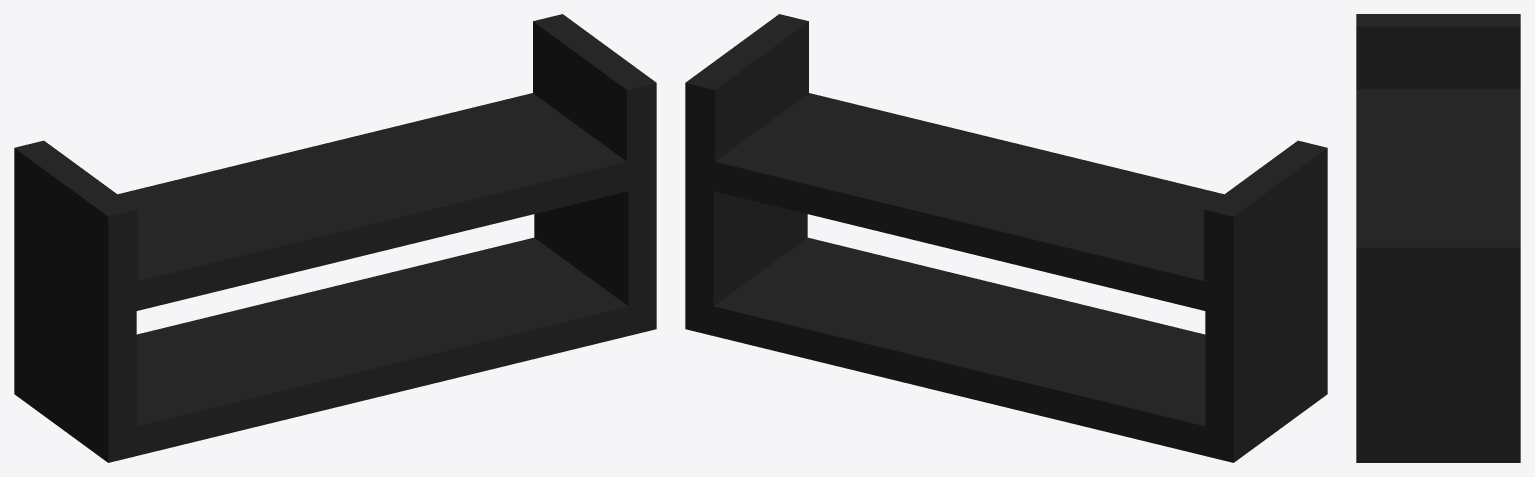
File: Prop_WallShelf_10.fbx
3 views of the same model, side by side, from view 1: azimuth 30°, elevation 25°; view 2: azimuth 150°, elevation 25°; view 3: azimuth 270°, elevation 25° (orthographic). The views are drawn at different scales.
Visible parts, largest first — view 1: Prop_WallShelf_10; view 2: Prop_WallShelf_10; view 3: Prop_WallShelf_10.
Part boxes in pixels (<box>): Prop_WallShelf_10: <box>14,14,656,462</box>; Prop_WallShelf_10: <box>685,14,1327,462</box>; Prop_WallShelf_10: <box>1356,14,1520,462</box>.
Bounding box in the file's own units: 36.57 × 15.7 × 10.87.
